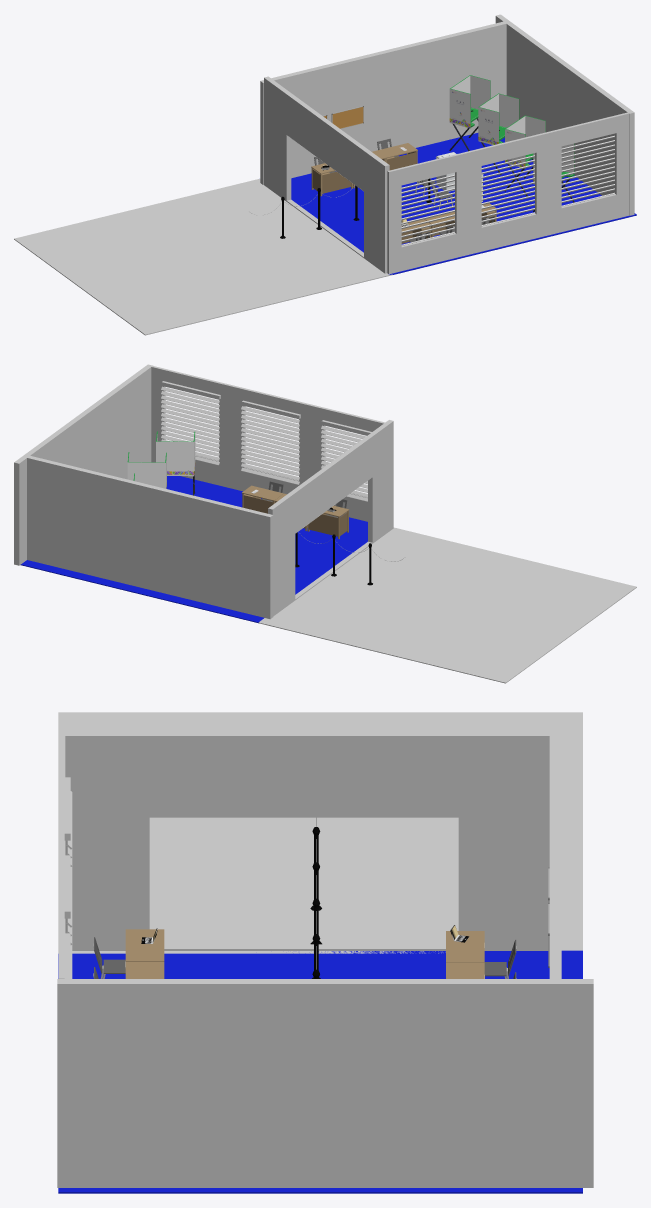
The model's file is earlyVote.glb.
The picture shows the model from 3 angles, top to bottom: view 1: azimuth 30°, elevation 25°; view 2: azimuth 150°, elevation 25°; view 3: azimuth 270°, elevation 25°; orthographic projection. The views are drawn at different scales.
Visible parts, largest first — view 1: indoor_env, pollingBooth1, pollingBooth2, pollingBooth3; view 2: indoor_env, pollingBooth4, pollingBooth3; view 3: indoor_env.
Boxes of the visible parts, bbox=[...] form: indoor_env: bbox=[14, 14, 636, 335]; pollingBooth1: bbox=[449, 75, 490, 151]; pollingBooth2: bbox=[478, 93, 519, 174]; pollingBooth3: bbox=[505, 115, 545, 196]; indoor_env: bbox=[14, 364, 636, 683]; pollingBooth4: bbox=[156, 431, 195, 495]; pollingBooth3: bbox=[127, 452, 166, 488]; indoor_env: bbox=[57, 712, 593, 1193].
Bounding box in the file's own units: 58.26 × 12.35 × 27.51.
Materials: 31 (22 with a texture image).
